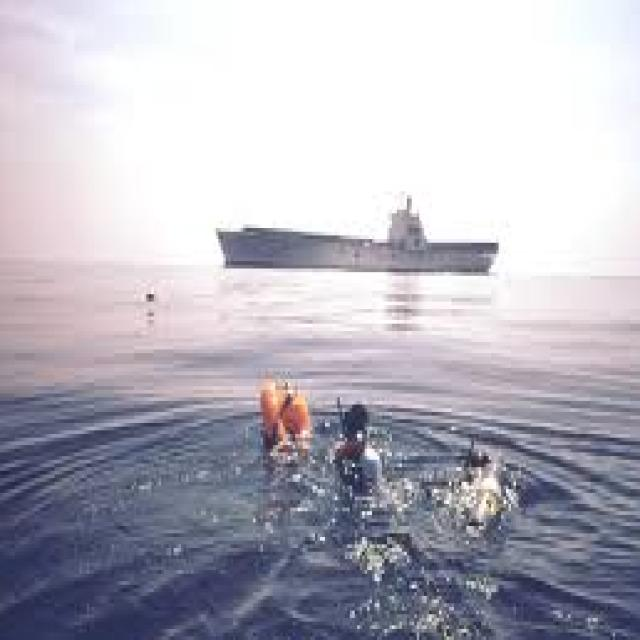navalvessels: (210, 190, 502, 277)
